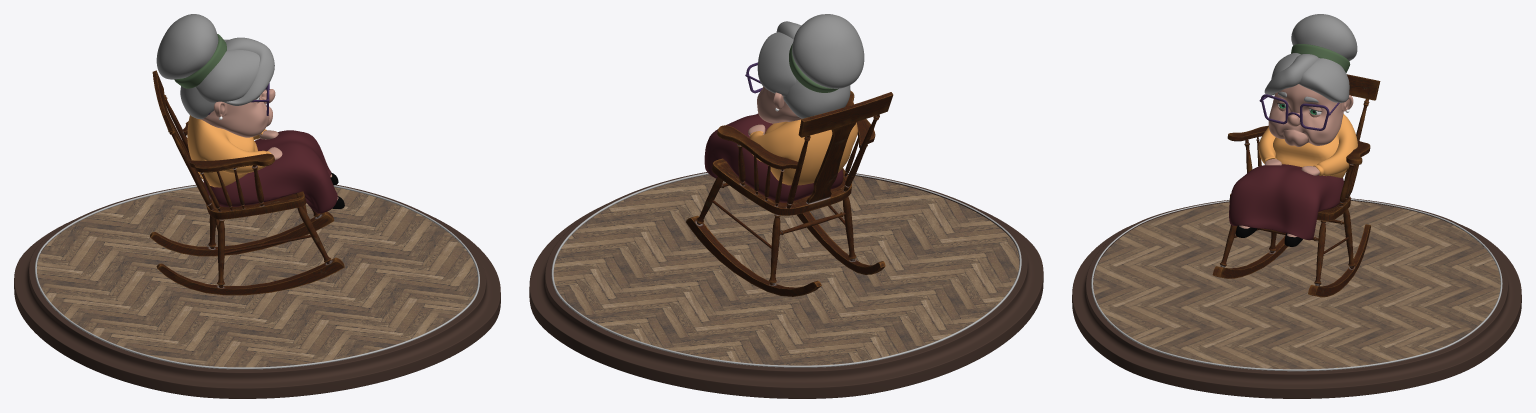
File: the_old_lady.glb
3 renders of one model, left to right at view 1: azimuth 30°, elevation 25°; view 2: azimuth 150°, elevation 25°; view 3: azimuth 270°, elevation 25°, orthographic. The views are drawn at different scales.
Parts seen in each view (by area): view 1: Plane.003, Plane.001, RockingChair_01mesh, Cube.015, Sphere.005, Cube.017, Plane.002, Cube.010, Sphere, Cube.001, Sphere.006; view 2: Plane.003, Plane.001, RockingChair_01mesh, Sphere.005, Cube.017, Cube.015, Plane.002, Cube.016, Sphere, Sphere.006; view 3: Plane.003, Plane.001, Cube.015, RockingChair_01mesh, Sphere, Cube.017, Sphere.005, Plane.002, Cube.016, Cube.001, Sphere.006, Plane.005.
Part boxes in pixels (x1,y1,x2,y2): Plane.003: [37, 187, 477, 367]; Plane.001: [14, 184, 500, 398]; RockingChair_01mesh: [150, 70, 344, 295]; Cube.015: [203, 130, 337, 213]; Sphere.005: [156, 14, 218, 118]; Cube.017: [187, 115, 271, 187]; Plane.002: [35, 185, 479, 369]; Cube.010: [196, 50, 259, 102]; Sphere: [196, 89, 275, 137]; Cube.001: [224, 37, 274, 105]; Sphere.006: [174, 34, 226, 88]; Plane.003: [553, 174, 1019, 365]; Plane.001: [529, 172, 1043, 398]; RockingChair_01mesh: [686, 91, 893, 296]; Sphere.005: [783, 14, 864, 118]; Cube.017: [749, 119, 857, 185]; Cube.015: [704, 113, 843, 202]; Plane.002: [551, 172, 1021, 367]; Cube.016: [757, 32, 796, 96]; Sphere: [757, 86, 802, 123]; Sphere.006: [789, 43, 838, 92]; Plane.003: [1093, 200, 1500, 369]; Plane.001: [1072, 198, 1521, 398]; Cube.015: [1229, 164, 1343, 240]; RockingChair_01mesh: [1212, 74, 1380, 297]; Sphere: [1268, 84, 1353, 146]; Cube.017: [1258, 114, 1357, 177]; Sphere.005: [1291, 14, 1357, 60]; Plane.002: [1091, 199, 1502, 371]; Cube.016: [1299, 58, 1349, 102]; Cube.001: [1264, 54, 1318, 95]; Sphere.006: [1291, 44, 1350, 72]; Plane.005: [1259, 94, 1339, 130].
Bounding box in the file's own units: 1.82 × 1.19 × 1.82.
Materials: 16 (3 with a texture image).
